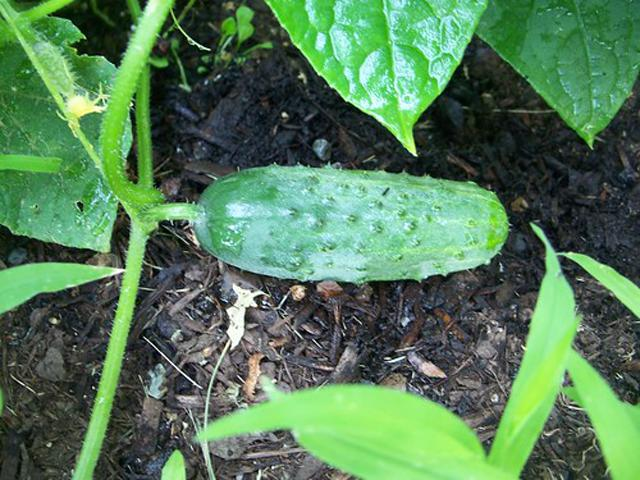cucumber: (193, 165, 512, 283)
